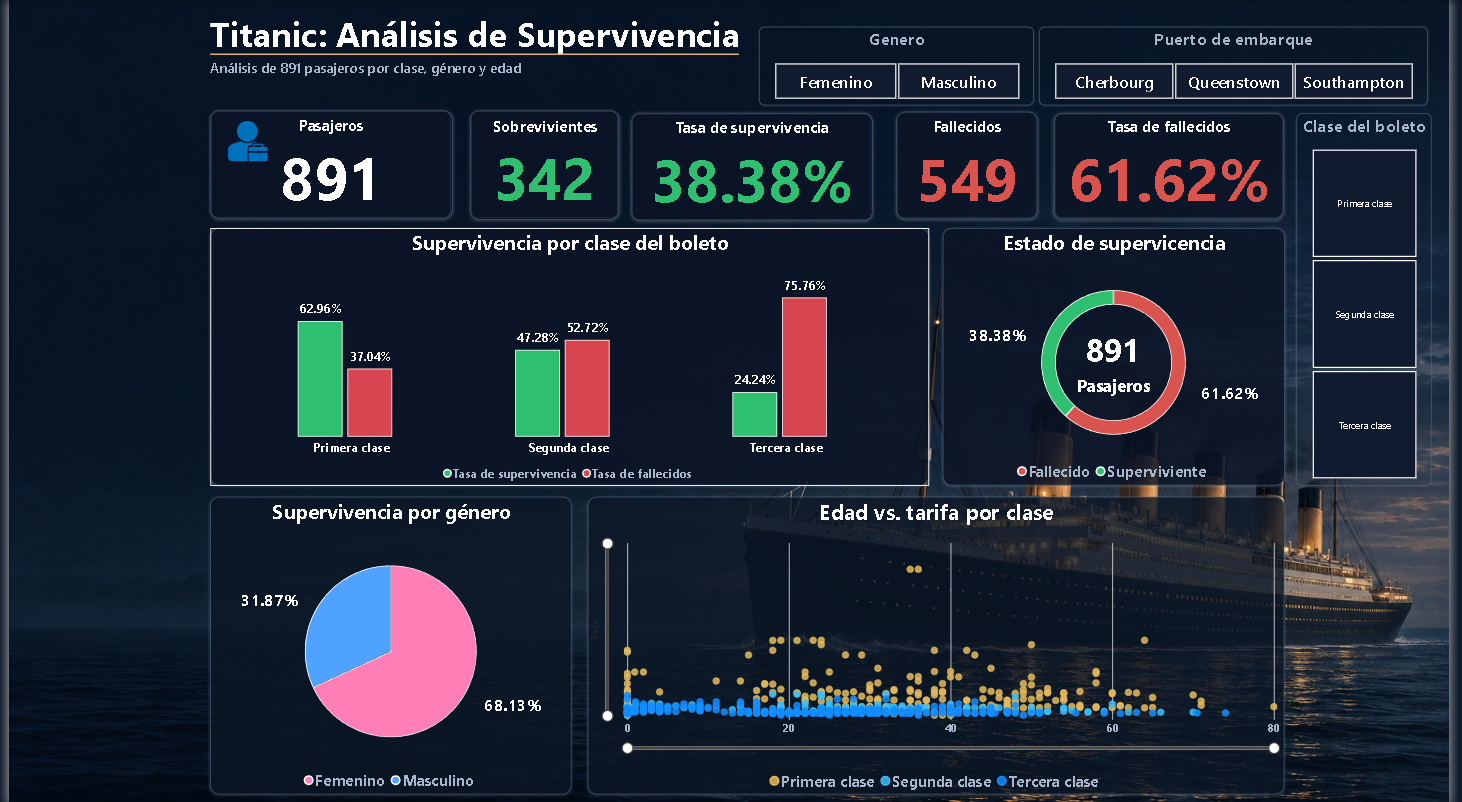

Layout of this report page (visuals, bound fields, positions):
{"tool":"powerbi","page":{"name":"Performances","canvas":[1920,1080],"ordinal":0},"visuals":[{"type":"cardVisual","fields":{"Data":["Titanic-Dataset.Cantidad_Pasajeros"]},"box":[268.6,150,322.9,144.3],"z":0},{"type":"cardVisual","fields":{"Data":["Titanic-Dataset.Sobrevivientes"]},"box":[615.7,150,198.6,145.7],"z":1000},{"type":"cardVisual","fields":{"Data":["Titanic-Dataset.Fallecidos"]},"box":[1183.3,151.7,188.3,143.3],"z":2000},{"type":"cardVisual","fields":{"Data":["Titanic-Dataset.Tasa_supervivencia"]},"box":[830,152.9,321.4,144.3],"z":3000},{"type":"donutChart","title":"Estado de supervicencia","fields":{"Category":["Titanic-Dataset.Tipo"],"Y":["Titanic-Dataset.Pasajeros"]},"box":[1244.3,307.1,455.7,342.9],"z":4000},{"type":"image","box":[268.3,160,99.7,61.9],"z":5000},{"type":"pieChart","title":"Supervivencia por género","fields":{"Category":["Titanic-Dataset.Genero"],"Series":["Titanic-Dataset.Tipo"],"Y":["Titanic-Dataset.Sobrevivientes"]},"box":[268.3,665,481.7,396.7],"z":6000},{"type":"clusteredColumnChart","title":"Supervivencia por clase del boleto","fields":{"Category":["Titanic-Dataset.Clase_Boleto"],"Y":["Titanic-Dataset.Tasa de supervivencia","Titanic-Dataset.Tasa de fallecidos"]},"box":[268,306.7,958.3,343.3],"z":7000},{"type":"scatterChart","title":"Edad vs. tarifa por clase","fields":{"Series":["Titanic-Dataset.Clase_Boleto"],"X":["Titanic-Dataset.Age"],"Y":["Titanic-Dataset.Fare"]},"box":[771.4,664.3,928.6,397.1],"z":8000},{"type":"textbox","title":"Titanic: Análisis de Supervivencia","box":[268.3,16.7,1385,105],"z":9000},{"type":"shape","box":[268.3,0,705,150],"z":10000},{"type":"slicer","title":"Genero","fields":{"Values":["Titanic-Dataset.Genero"]},"box":[999.7,38,366.7,105],"z":11000},{"type":"slicer","title":"Puerto de embarque","fields":{"Values":["Titanic-Dataset.Embarked_Town"]},"box":[1373,38,518.3,105],"z":12000},{"type":"slicer","title":"Clase del boleto","fields":{"Values":["Titanic-Dataset.Clase_Boleto"]},"box":[1716.7,153.3,180,496.7],"z":13000},{"type":"cardVisual","fields":{"Data":["Titanic-Dataset.Tasa_Fallecidos"]},"box":[1393.3,153.3,306.7,141.7],"z":14000}]}

Visuals, with their boxes in screenshot pixels (x1, y1, x2, y2), scaled from the page's 1920x1080 canvas onto the 1462x802 screenshot:
cardVisual - Titanic-Dataset.Cantidad_Pasajeros: [205,111,450,219]
cardVisual - Titanic-Dataset.Sobrevivientes: [469,111,620,220]
cardVisual - Titanic-Dataset.Fallecidos: [901,113,1044,219]
cardVisual - Titanic-Dataset.Tasa_supervivencia: [632,114,877,221]
"Estado de supervicencia" donutChart: [947,228,1294,483]
image: [204,119,280,165]
"Supervivencia por género" pieChart: [204,494,571,788]
"Supervivencia por clase del boleto" clusteredColumnChart: [204,228,934,483]
"Edad vs. tarifa por clase" scatterChart: [587,493,1294,788]
"Titanic: Análisis de Supervivencia" textbox: [204,12,1259,90]
shape: [204,0,741,111]
"Genero" slicer: [761,28,1040,106]
"Puerto de embarque" slicer: [1045,28,1440,106]
"Clase del boleto" slicer: [1307,114,1444,483]
cardVisual - Titanic-Dataset.Tasa_Fallecidos: [1061,114,1294,219]
